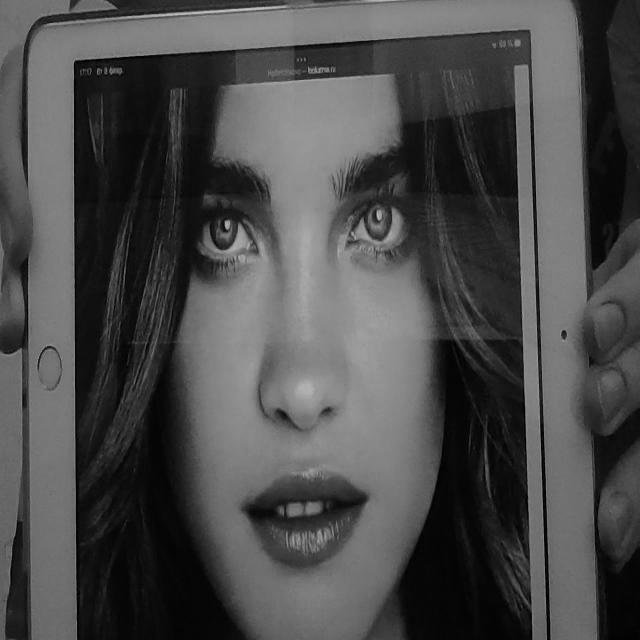fake: (19, 2, 608, 640)
